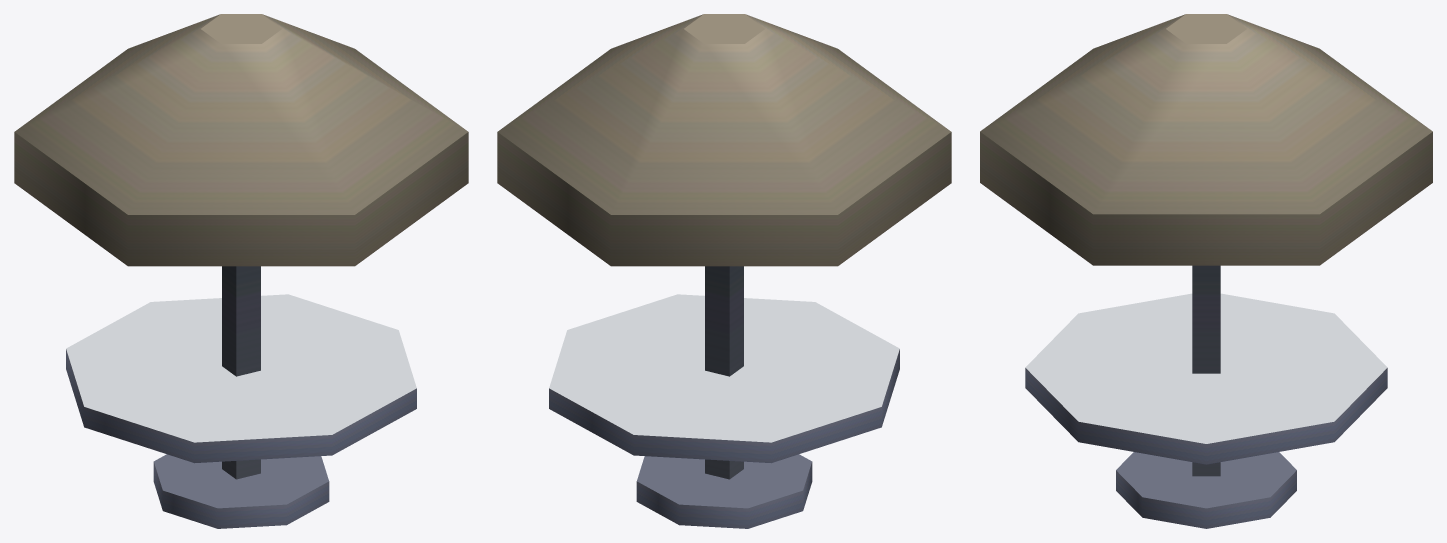
File: detail-parasol-a.glb
The picture shows the model from 3 angles, left to right: view 1: azimuth 30°, elevation 25°; view 2: azimuth 150°, elevation 25°; view 3: azimuth 270°, elevation 25°; orthographic projection.
Visible parts, largest first — view 1: detail-parasol-a; view 2: detail-parasol-a; view 3: detail-parasol-a.
Boxes of the visible parts, x1=… form: detail-parasol-a: x1=14, y1=14, x2=468, y2=528; detail-parasol-a: x1=497, y1=14, x2=951, y2=528; detail-parasol-a: x1=980, y1=14, x2=1432, y2=528.
Size of the model in its own units: 0.3464 by 0.45 by 0.4.
Materials: 1 (1 with a texture image).
